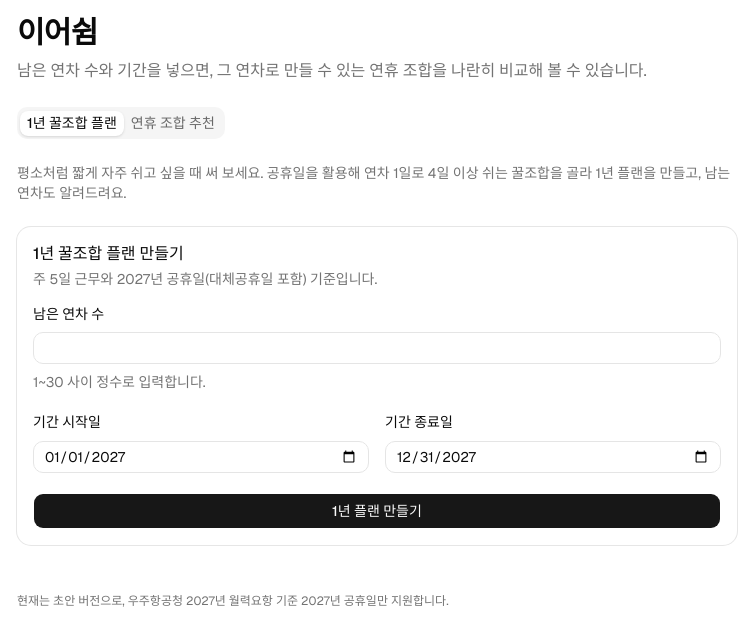
탭과 1년 꿀조합 플랜 화면 › 연휴 조합 추천 탭으로 바꾸면 입력 폼은 그대로 쓰고 제출 버튼 문구만 바뀐다
This screenshot has width=755, height=624.
Click the tab "연휴 조합 추천". click: (173, 123)
box: [124,110,222,136]
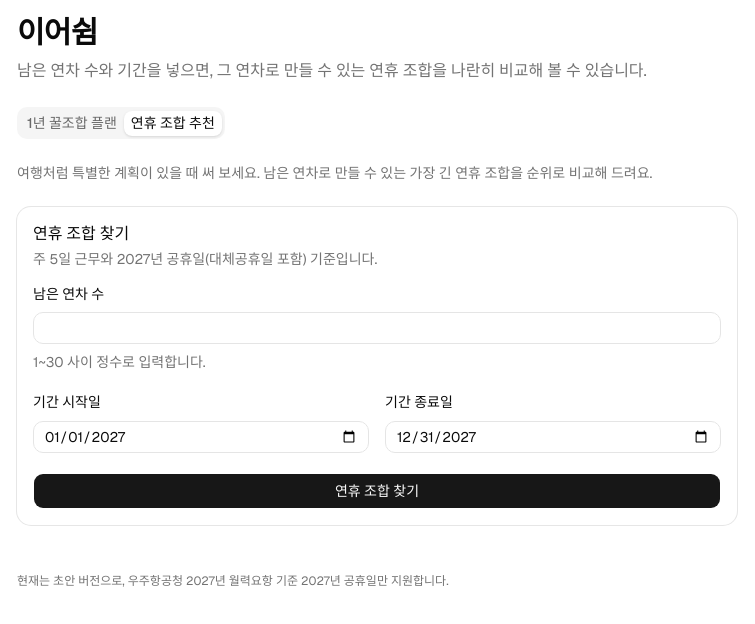
Expected: the field labelled "남은 연차 수" is shown, [33,312,721,344]
Result: the button "연휴 조합 찾기" is shown at [33,472,721,508]
Result: the button "1년 플랜 만들기" is gone
